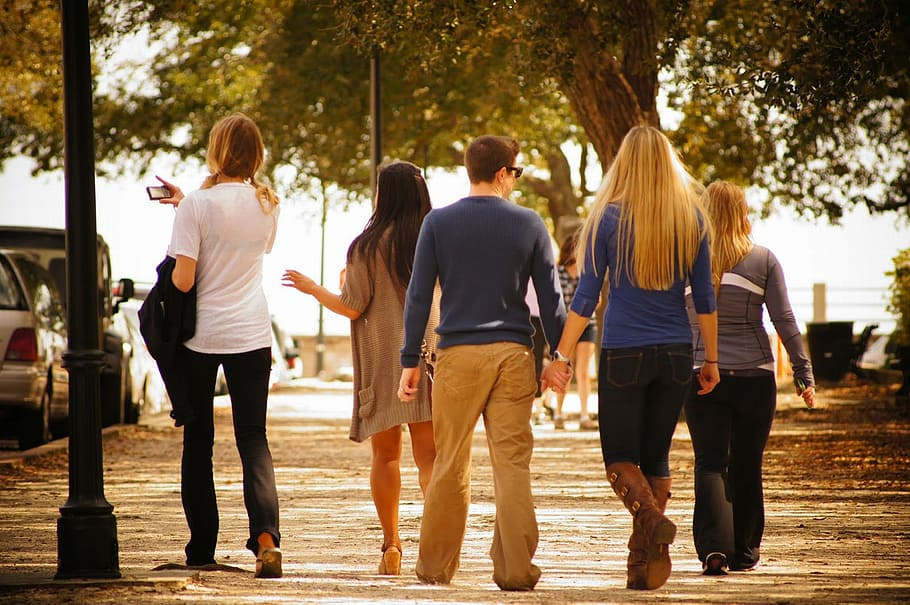Person: (540, 124, 720, 592), (395, 135, 572, 592), (281, 160, 441, 575), (153, 112, 283, 577), (683, 178, 818, 577)
